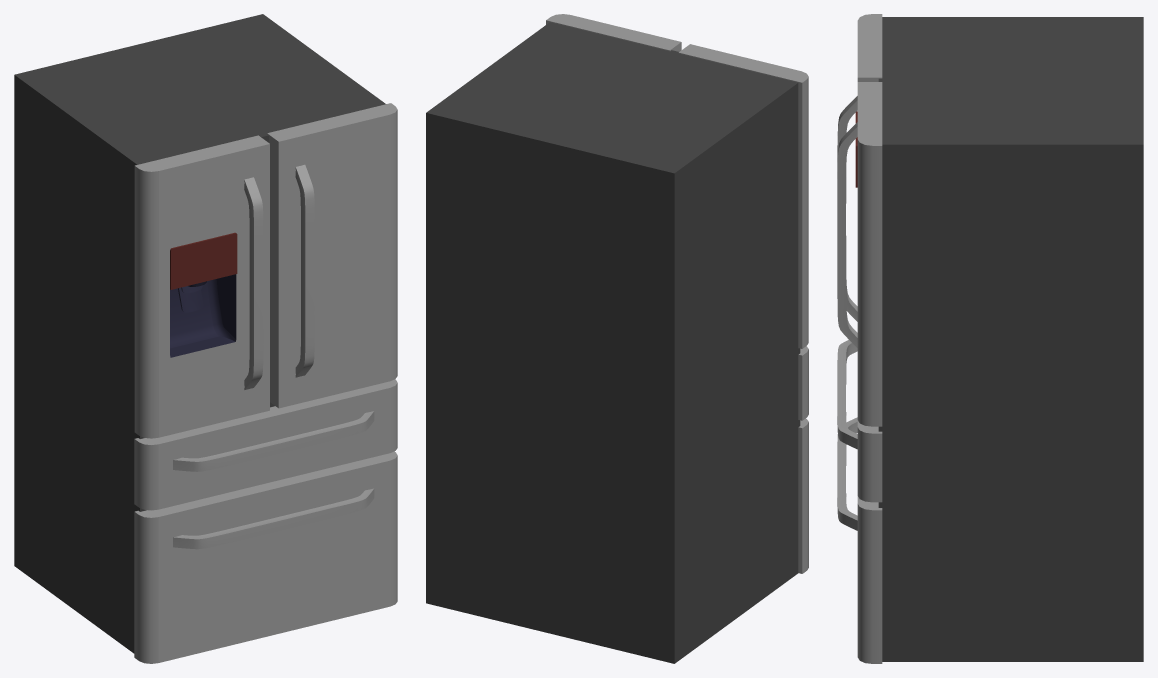
Rendered from fridge.fbx.
3 renders of one model, left to right at view 1: azimuth 30°, elevation 25°; view 2: azimuth 150°, elevation 25°; view 3: azimuth 270°, elevation 25°, orthographic. The views are drawn at different scales.
Visible parts, largest first — view 1: Cube.012; view 2: Cube.012; view 3: Cube.012.
Boxes of the visible parts, x1,y1,x2,y2 form: Cube.012: (14, 14, 397, 663); Cube.012: (426, 14, 808, 663); Cube.012: (837, 14, 1143, 663).
Bounding box in the file's own units: 813 × 1490 × 798.
